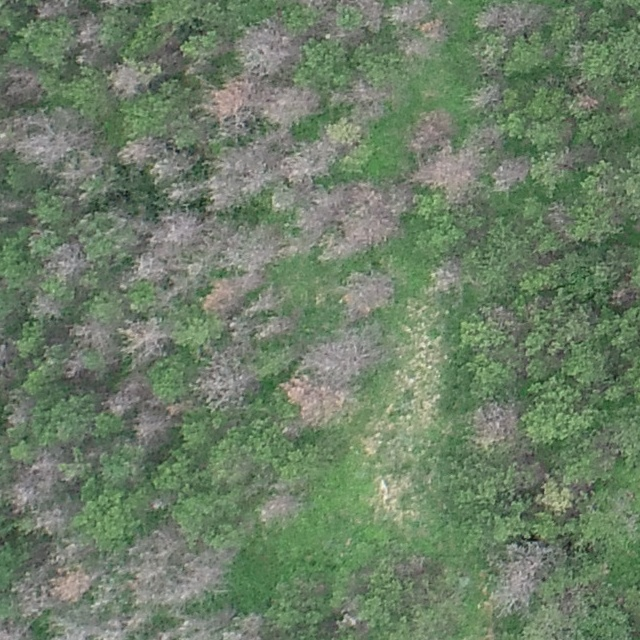unhealthy: (124, 527, 231, 611), (317, 179, 414, 261), (294, 329, 378, 391), (209, 140, 275, 211), (492, 541, 556, 611), (194, 348, 257, 407), (413, 146, 479, 202), (281, 376, 351, 427), (237, 18, 297, 77), (10, 449, 63, 514), (289, 186, 340, 252), (204, 73, 259, 133), (150, 207, 220, 254), (222, 222, 286, 272), (15, 136, 90, 174), (340, 267, 391, 320), (262, 82, 320, 126), (470, 397, 520, 446), (280, 141, 336, 183), (14, 556, 50, 620), (406, 107, 454, 155), (122, 316, 170, 364), (204, 274, 251, 316), (44, 239, 91, 281), (341, 78, 390, 118), (103, 374, 145, 416), (167, 612, 229, 640), (51, 568, 96, 603), (70, 319, 116, 353), (3, 64, 42, 104), (118, 133, 164, 166), (258, 490, 301, 525), (108, 61, 148, 98), (133, 409, 171, 447), (500, 2, 545, 34), (151, 150, 196, 182), (491, 154, 532, 189), (133, 251, 174, 284), (62, 154, 105, 185), (95, 612, 144, 639), (73, 12, 102, 56), (255, 313, 300, 341), (428, 257, 463, 293), (33, 504, 70, 536), (225, 612, 266, 640), (388, 0, 431, 26), (469, 123, 507, 152), (483, 303, 521, 332), (11, 109, 55, 134), (468, 81, 503, 111), (555, 143, 596, 168), (352, 0, 386, 30), (167, 180, 201, 208), (30, 292, 64, 320), (397, 33, 433, 59), (247, 288, 281, 315), (544, 201, 571, 234), (392, 554, 428, 578), (55, 619, 96, 640), (474, 4, 505, 31), (259, 126, 295, 149), (6, 398, 32, 429), (33, 0, 73, 20), (609, 283, 638, 309), (0, 619, 32, 640), (61, 355, 85, 381), (421, 19, 450, 40), (0, 189, 24, 214), (92, 0, 152, 10), (574, 92, 601, 112)
